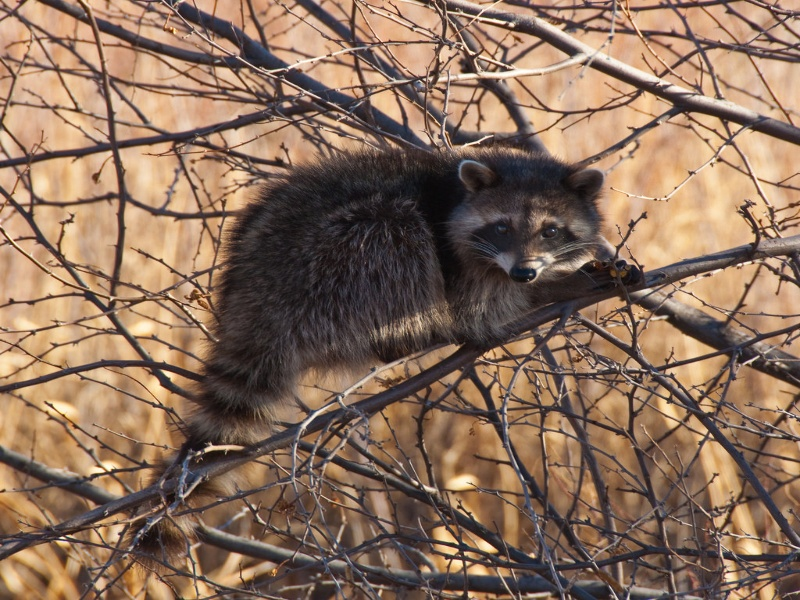raccoon: (183, 151, 645, 451)
